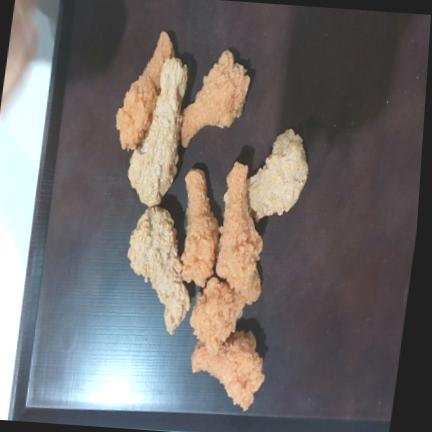chicken: (128, 58, 187, 206), (127, 205, 189, 334), (116, 31, 173, 149), (180, 50, 249, 147), (215, 162, 262, 304), (191, 330, 264, 410), (247, 128, 307, 220), (180, 168, 218, 286), (190, 277, 244, 353)
